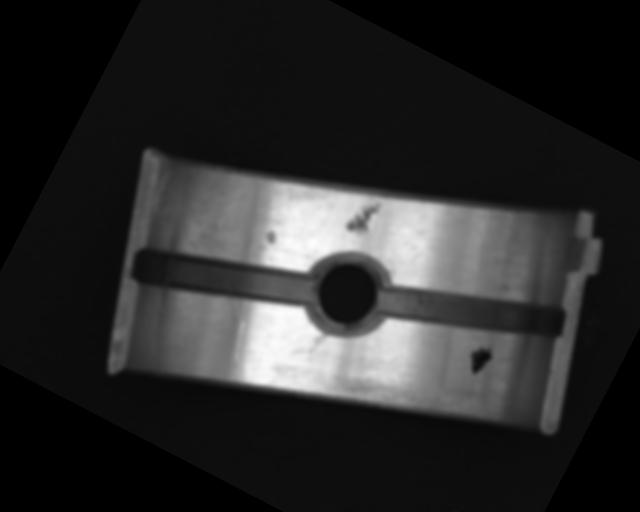blot: (462, 339, 497, 379)
bruise: (341, 192, 383, 240), (261, 227, 279, 247)
gap: (372, 233, 570, 392), (128, 203, 316, 353)
hole: (289, 239, 403, 354)
nick: (213, 318, 269, 386), (306, 326, 330, 357)
scratch: (334, 343, 492, 463)
